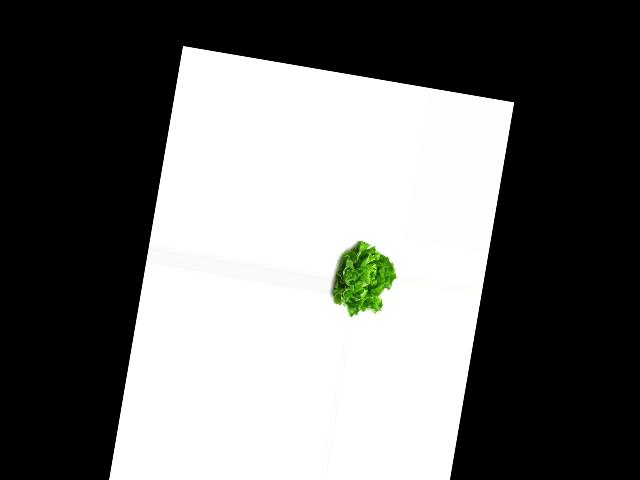lettuce: (327, 239, 400, 322)
